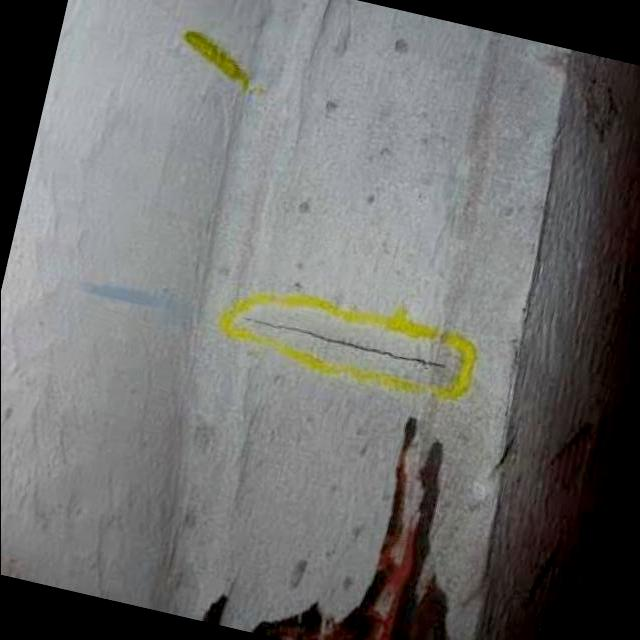defect: (237, 312, 450, 374)
